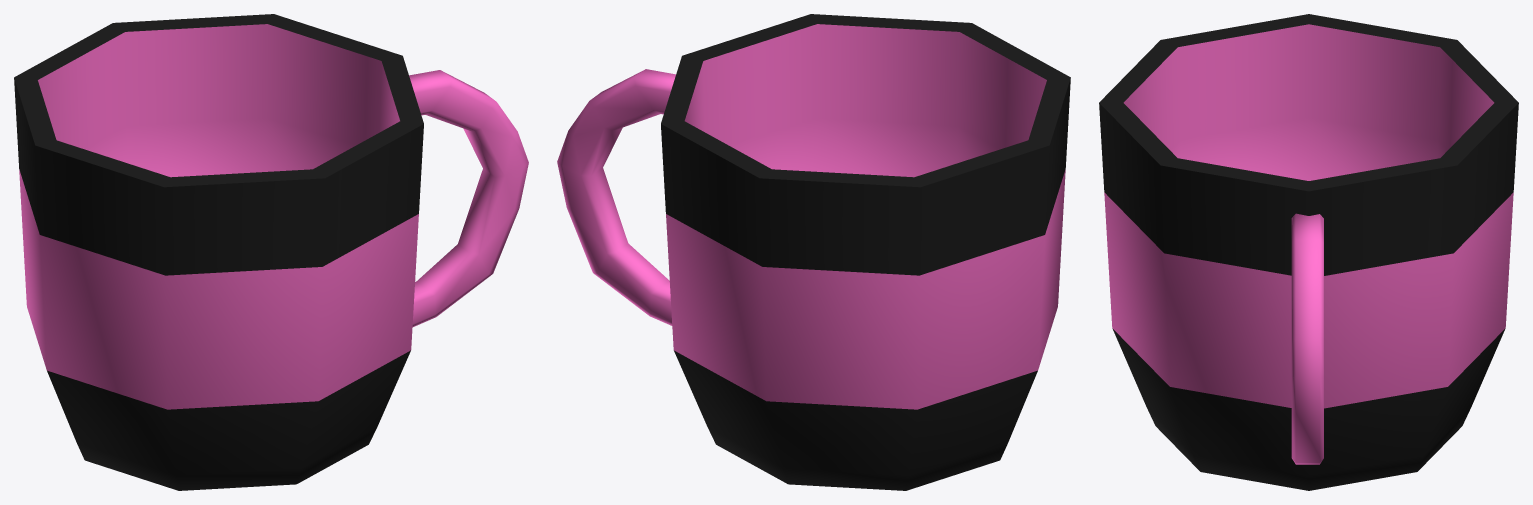
The model's file is Coffee_Cup_17.FBX.
3 views of the same model, side by side, from view 1: azimuth 30°, elevation 25°; view 2: azimuth 150°, elevation 25°; view 3: azimuth 270°, elevation 25° (orthographic).
Parts seen in each view (by area): view 1: Coffee Cup; view 2: Coffee Cup; view 3: Coffee Cup.
Boxes of the visible parts, x1=… form: Coffee Cup: x1=14, y1=14, x2=528, y2=490; Coffee Cup: x1=557, y1=14, x2=1070, y2=490; Coffee Cup: x1=1099, y1=14, x2=1518, y2=490.
Size of the model in its own units: 44.01 by 28.24 by 33.22.
